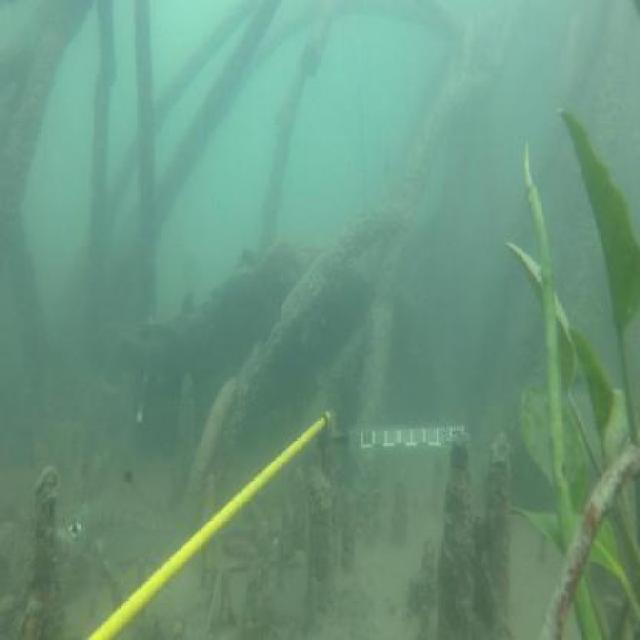gerres: (57, 485, 189, 586)
